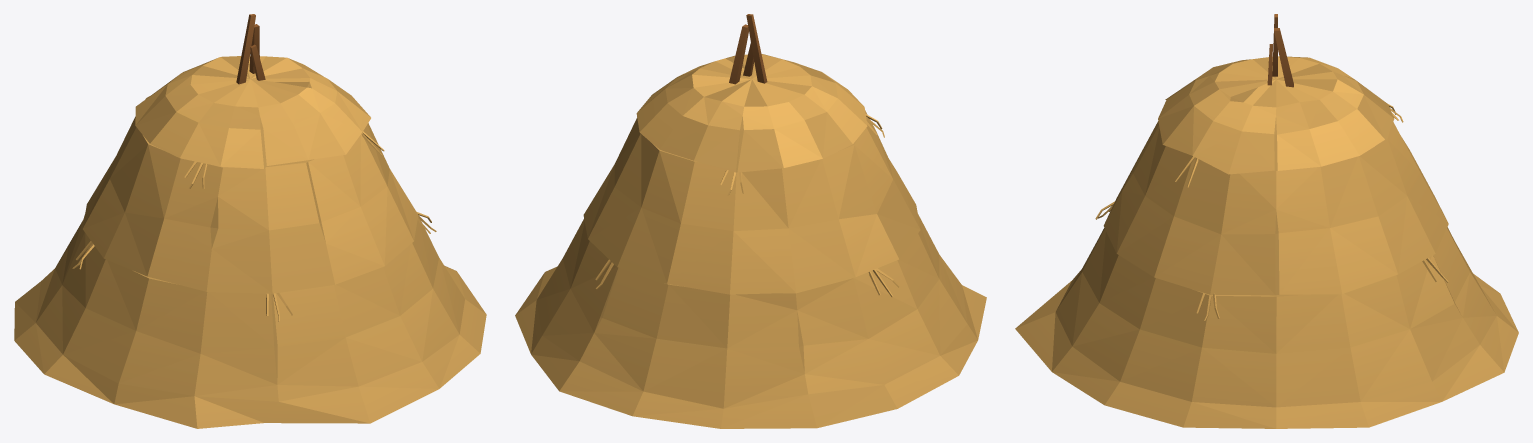
Rendered from Prop_Hay_Pile_01.obj.
3 renders of one model, left to right at view 1: azimuth 30°, elevation 25°; view 2: azimuth 150°, elevation 25°; view 3: azimuth 270°, elevation 25°, orthographic.
Visible parts, largest first — view 1: Prop_Hay_Pile_01; view 2: Prop_Hay_Pile_01; view 3: Prop_Hay_Pile_01.
Part boxes in pixels (x1,y1,x2,y2): Prop_Hay_Pile_01: (14, 14, 486, 428); Prop_Hay_Pile_01: (515, 14, 986, 428); Prop_Hay_Pile_01: (1015, 14, 1518, 428).
Bounding box in the file's own units: 3.18 × 2.3 × 3.3.
1 material, 1 textured.
